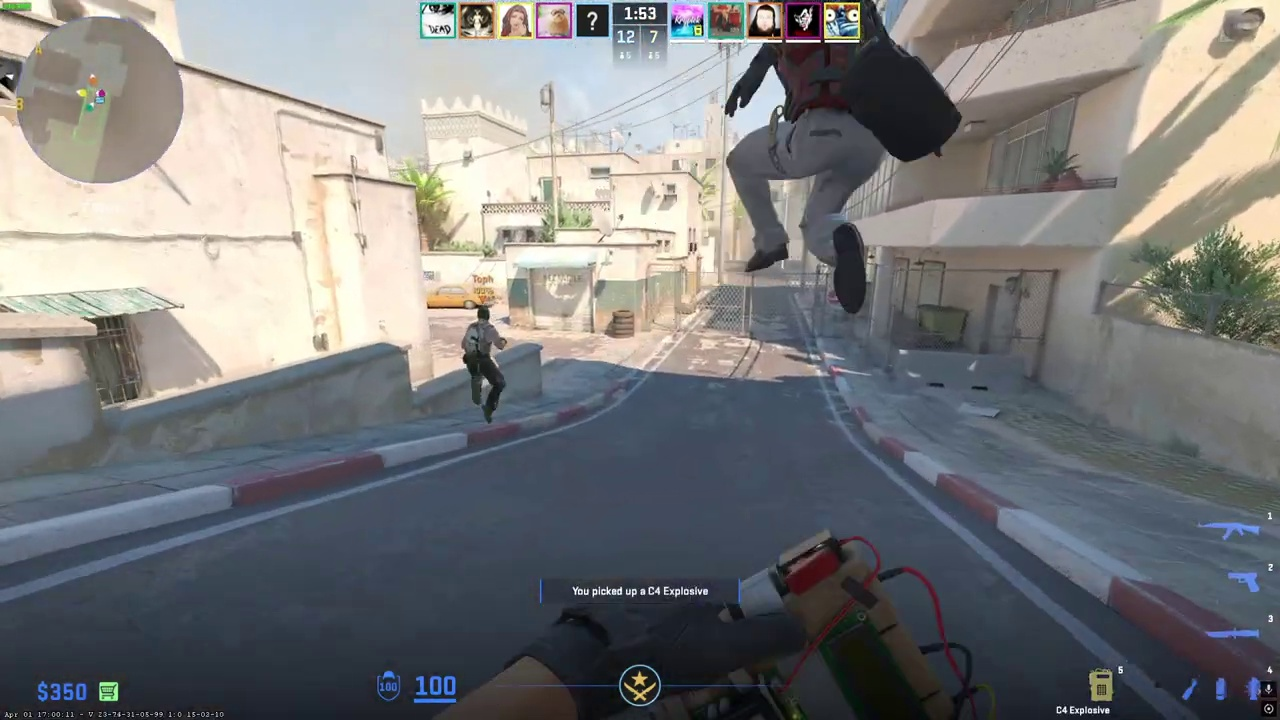Terrorist: (742, 17, 881, 300), (463, 306, 507, 423)
